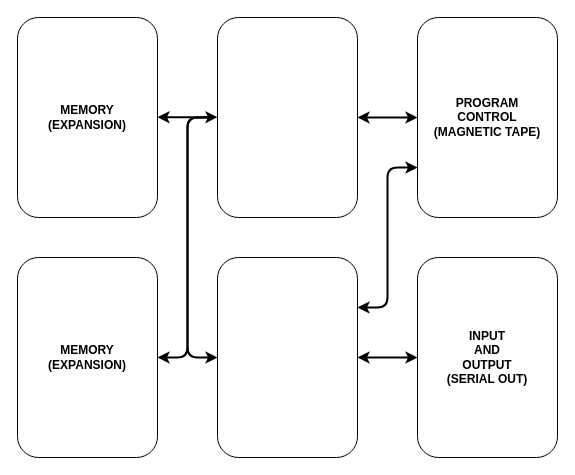
The diagram is 575 pixels wide and 475 high, and some of its shapes have lost their labels. Each missing label, with the box of its shape:
MEMORY (UE4064): (216, 256, 358, 458)
PROCESSOR (UE1450): (216, 16, 358, 218)
